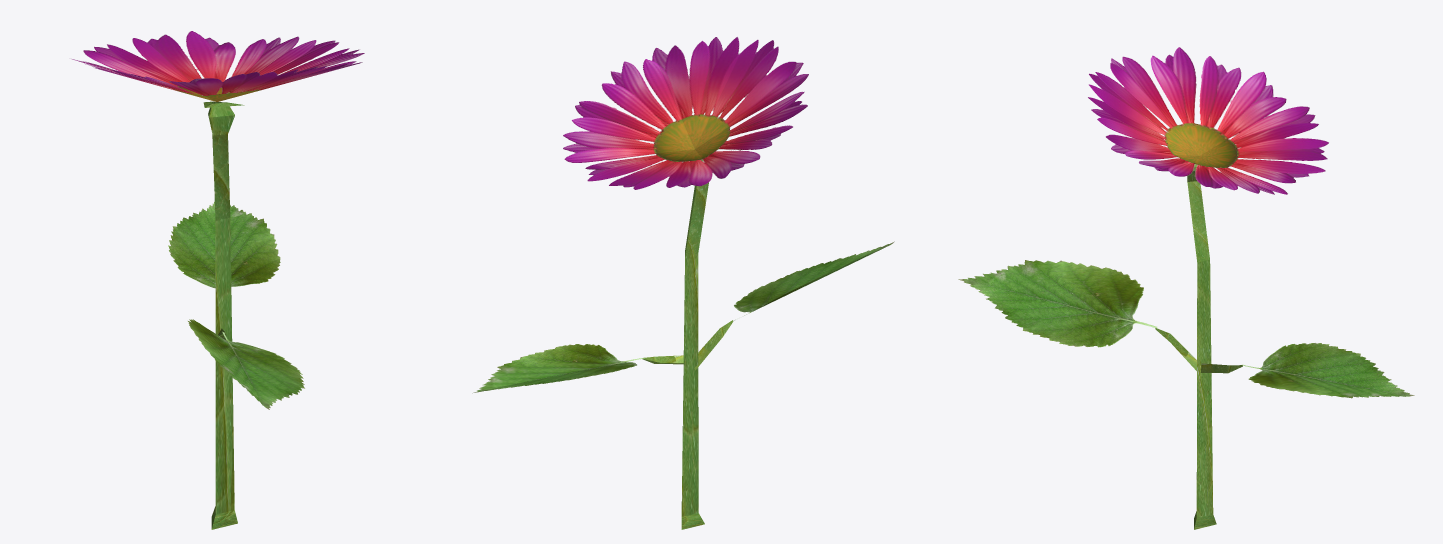
Rendered from flower4.obj.
3 views of the same model, side by side, from view 1: azimuth 30°, elevation 25°; view 2: azimuth 150°, elevation 25°; view 3: azimuth 270°, elevation 25° (orthographic). The views are drawn at different scales.
Visible parts, largest first — view 1: Circle, Circle.001; view 2: Circle.001, Circle; view 3: Circle, Circle.001.
Part boxes in pixels (<box>): Circle: <box>168,101,304,529</box>; Circle.001: <box>72,31,364,101</box>; Circle.001: <box>563,37,808,189</box>; Circle: <box>472,159,894,529</box>; Circle: <box>958,164,1414,529</box>; Circle.001: <box>1088,47,1328,194</box>.
Size of the model in its own units: 4.18 by 7.12 by 6.82.
